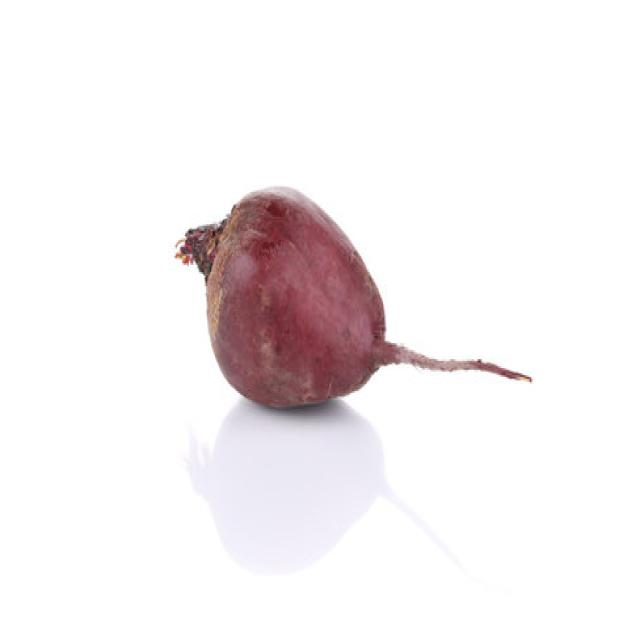Beetroot: (173, 183, 533, 411)
